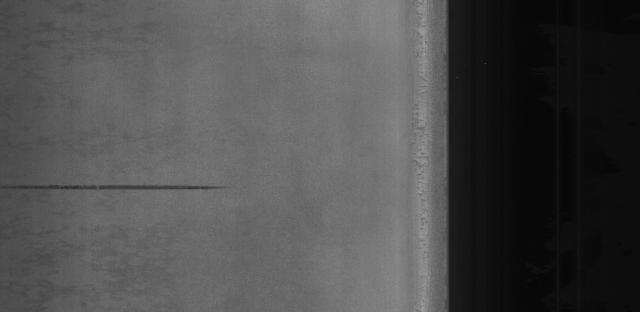crease: (14, 166, 249, 208)
